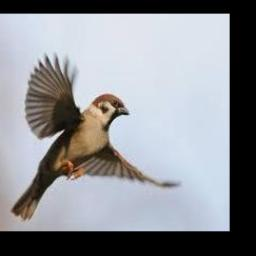Sparrow: (11, 52, 182, 221)
